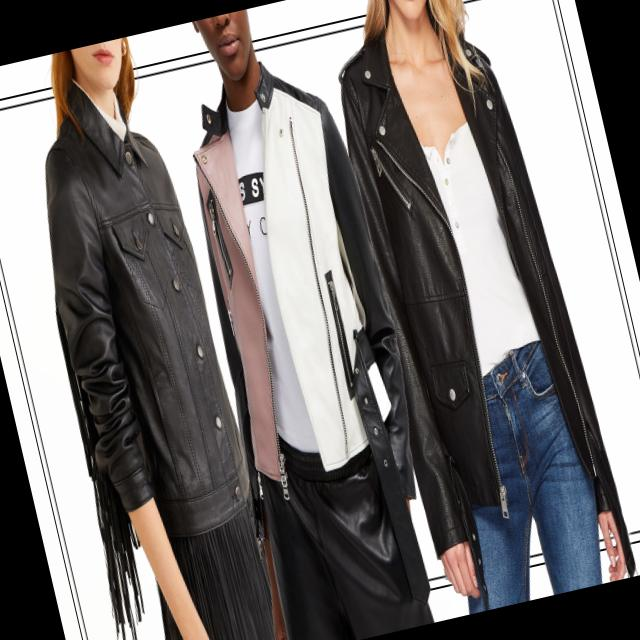Jacket: (313, 16, 632, 560), (0, 89, 275, 607), (167, 60, 433, 541)
